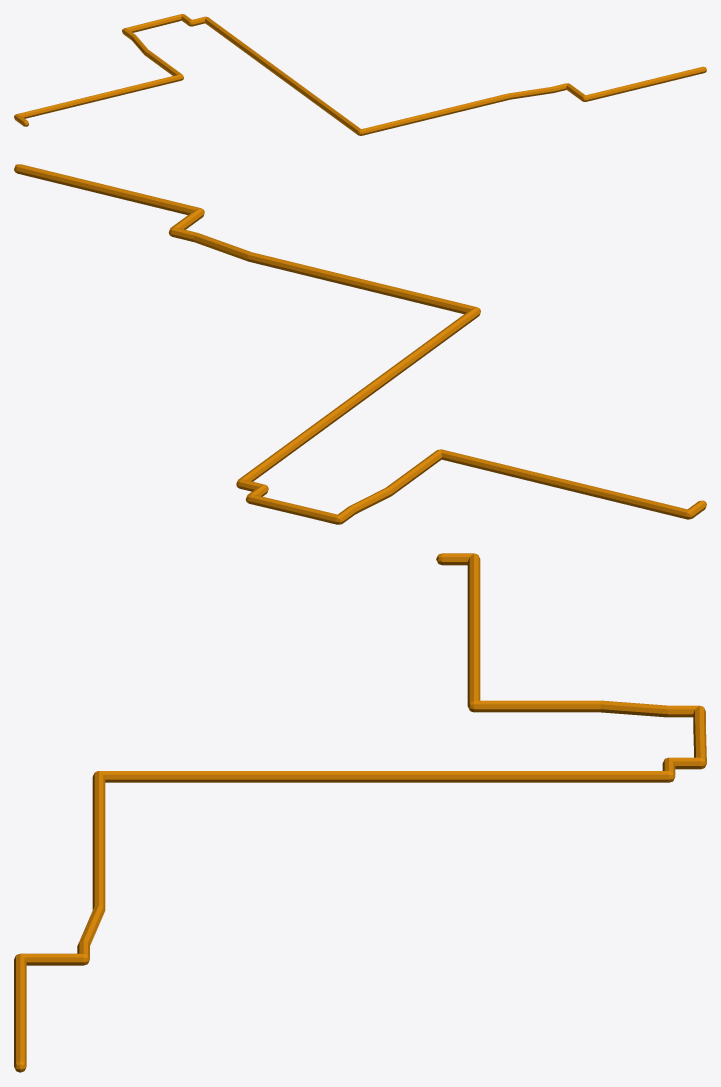
The picture shows the model from 3 angles, top to bottom: view 1: azimuth 30°, elevation 25°; view 2: azimuth 150°, elevation 25°; view 3: azimuth 270°, elevation 25°; orthographic projection. The views are drawn at different scales.
Size of the model in its own units: 1916 by 20 by 1094.
